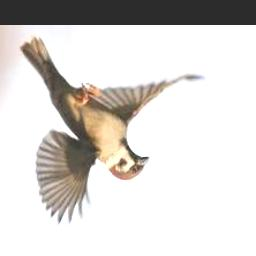Sparrow: (20, 37, 208, 228)
